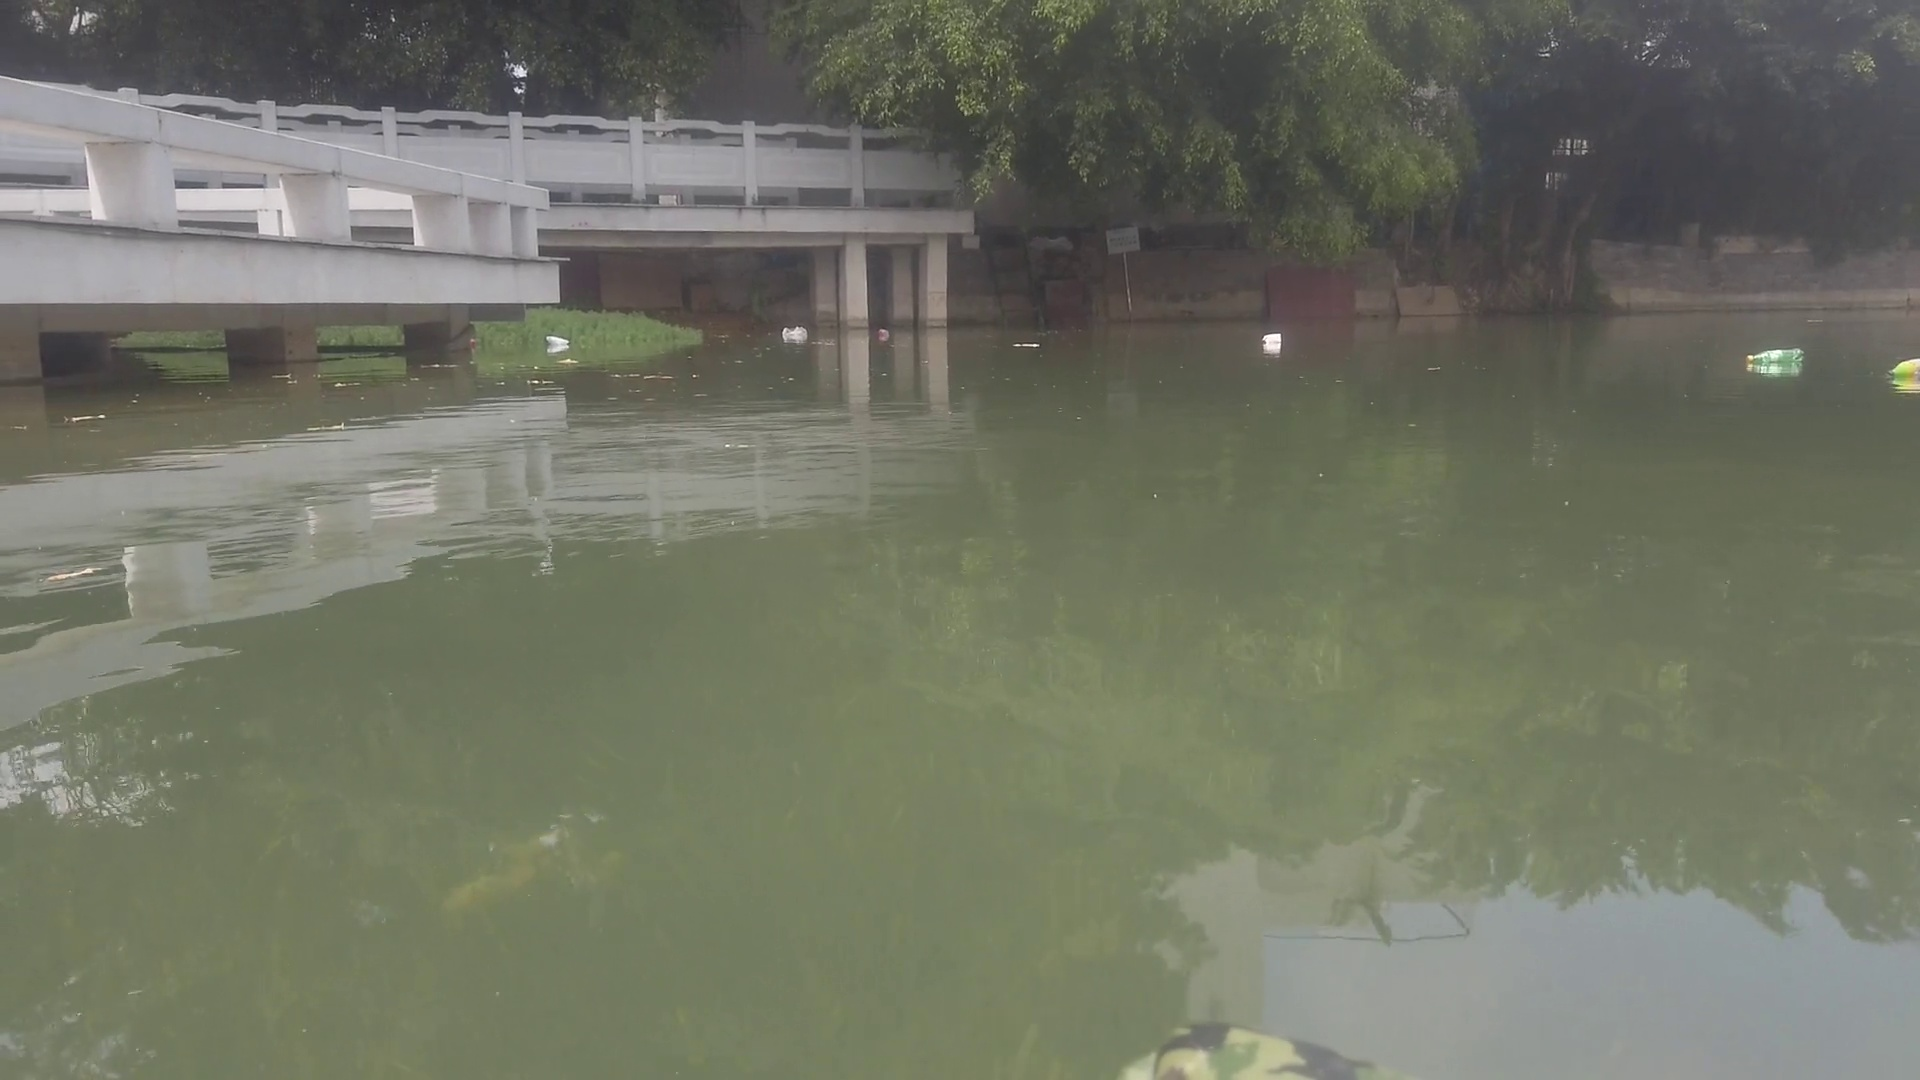bottle: (1742, 347, 1811, 363), (1883, 352, 1920, 378), (467, 332, 483, 349), (876, 323, 890, 340)
carton: (1262, 328, 1282, 343)
paper: (553, 357, 583, 371), (1013, 342, 1040, 351)
plastic: (537, 334, 582, 345), (778, 326, 812, 340)
